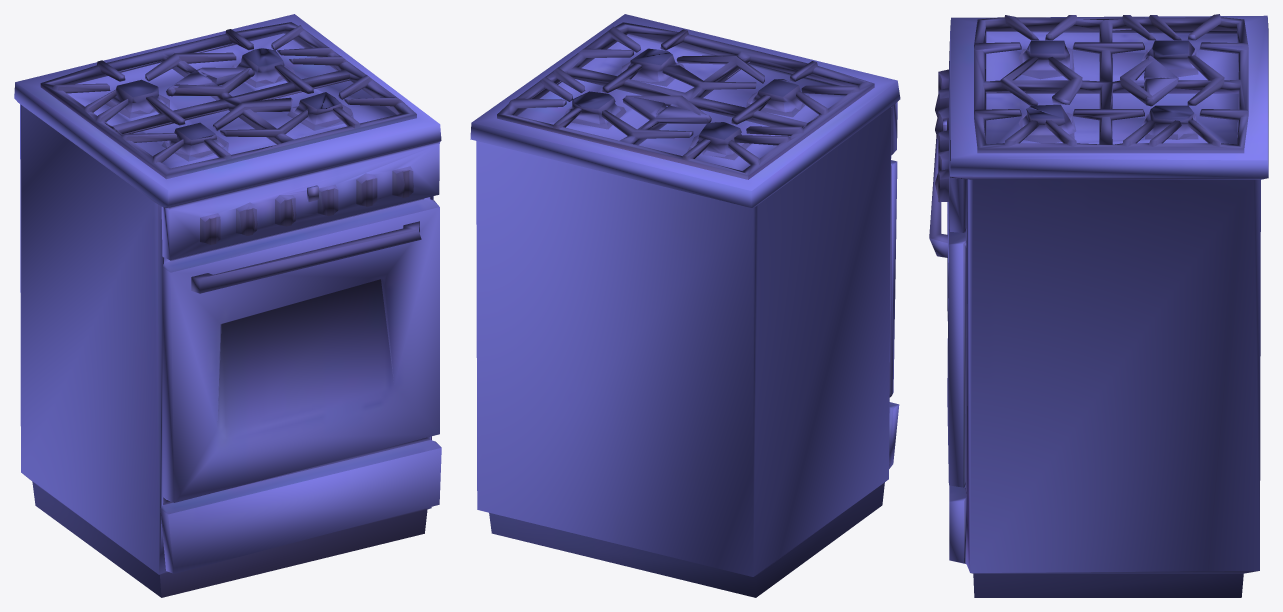
Rendered from model.progressive.glb.
3 views of the same model, side by side, from view 1: azimuth 30°, elevation 25°; view 2: azimuth 150°, elevation 25°; view 3: azimuth 270°, elevation 25° (orthographic). The views are drawn at different scales.
Visible parts, largest first — view 1: mesh_input; view 2: mesh_input; view 3: mesh_input.
Part boxes in pixels (x1,y1,x2,y2): mesh_input: (14,14,441,597); mesh_input: (470,14,900,597); mesh_input: (929,14,1268,597).
Bounding box in the file's own units: 1.29 × 1.88 × 1.28.
Materials: 1 (1 with a texture image).
